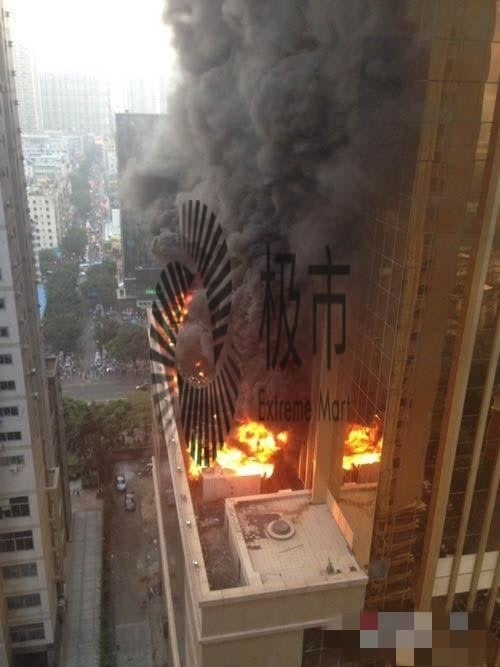fire: (183, 417, 288, 478), (340, 417, 384, 469)
